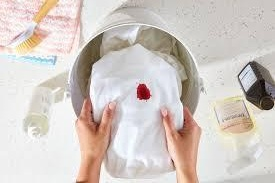blood: (135, 84, 152, 102)
